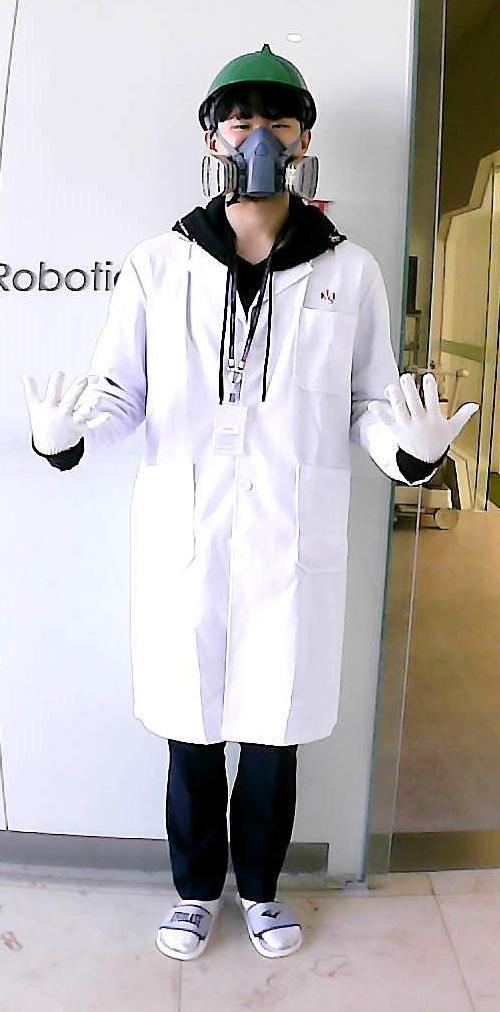lab_coat: (126, 262, 376, 733)
